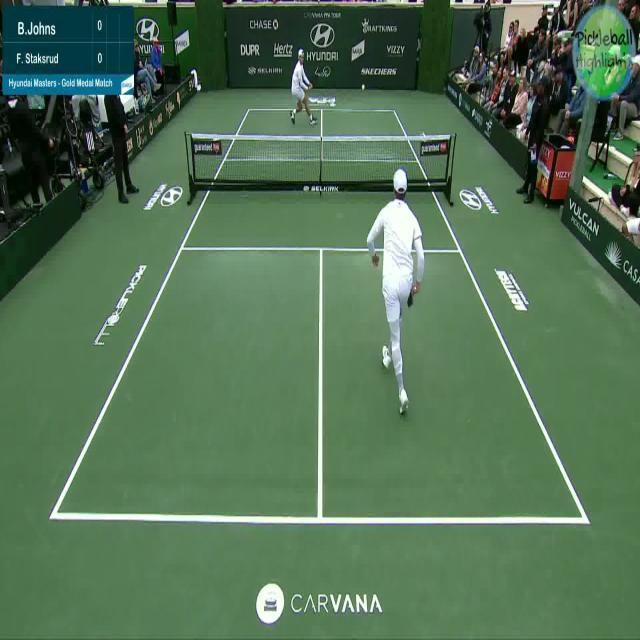Court: (54, 112, 589, 521)
ball: (361, 82, 365, 91)
